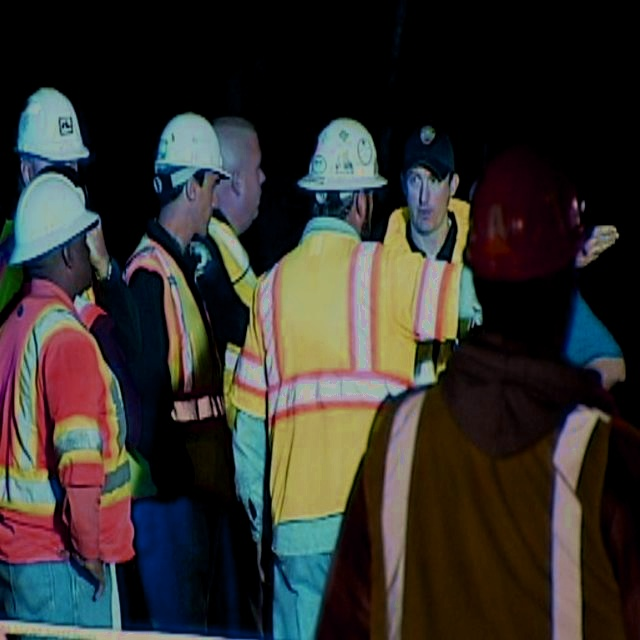Con_Casco: (299, 115, 389, 228), (12, 174, 99, 285), (153, 110, 231, 230)
Con_Chaleco: (358, 391, 630, 640), (257, 241, 416, 519), (0, 293, 137, 556)
